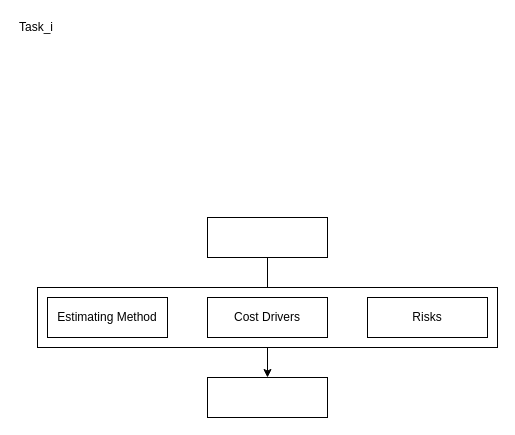
This 515x435 diagram has some shape labels left out. The centre of each missing label's shape, as x and y in pixels:
Distribution: the point at 267,397
Point Estimate: the point at 267,237
